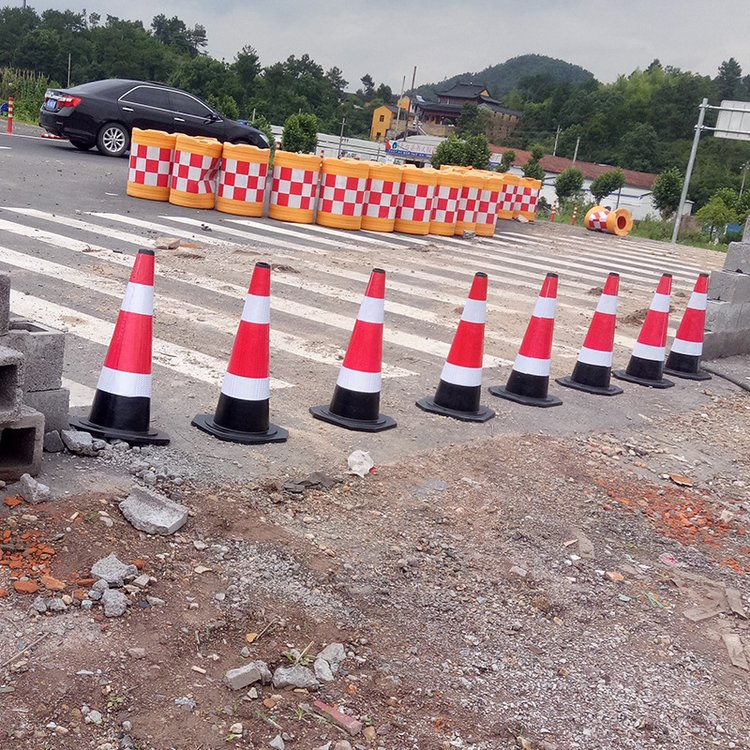traffic_cone: (67, 221, 174, 463), (182, 245, 305, 454), (315, 252, 407, 440), (415, 258, 498, 442), (496, 252, 571, 418), (562, 250, 633, 404), (623, 259, 688, 399), (667, 264, 720, 387)
